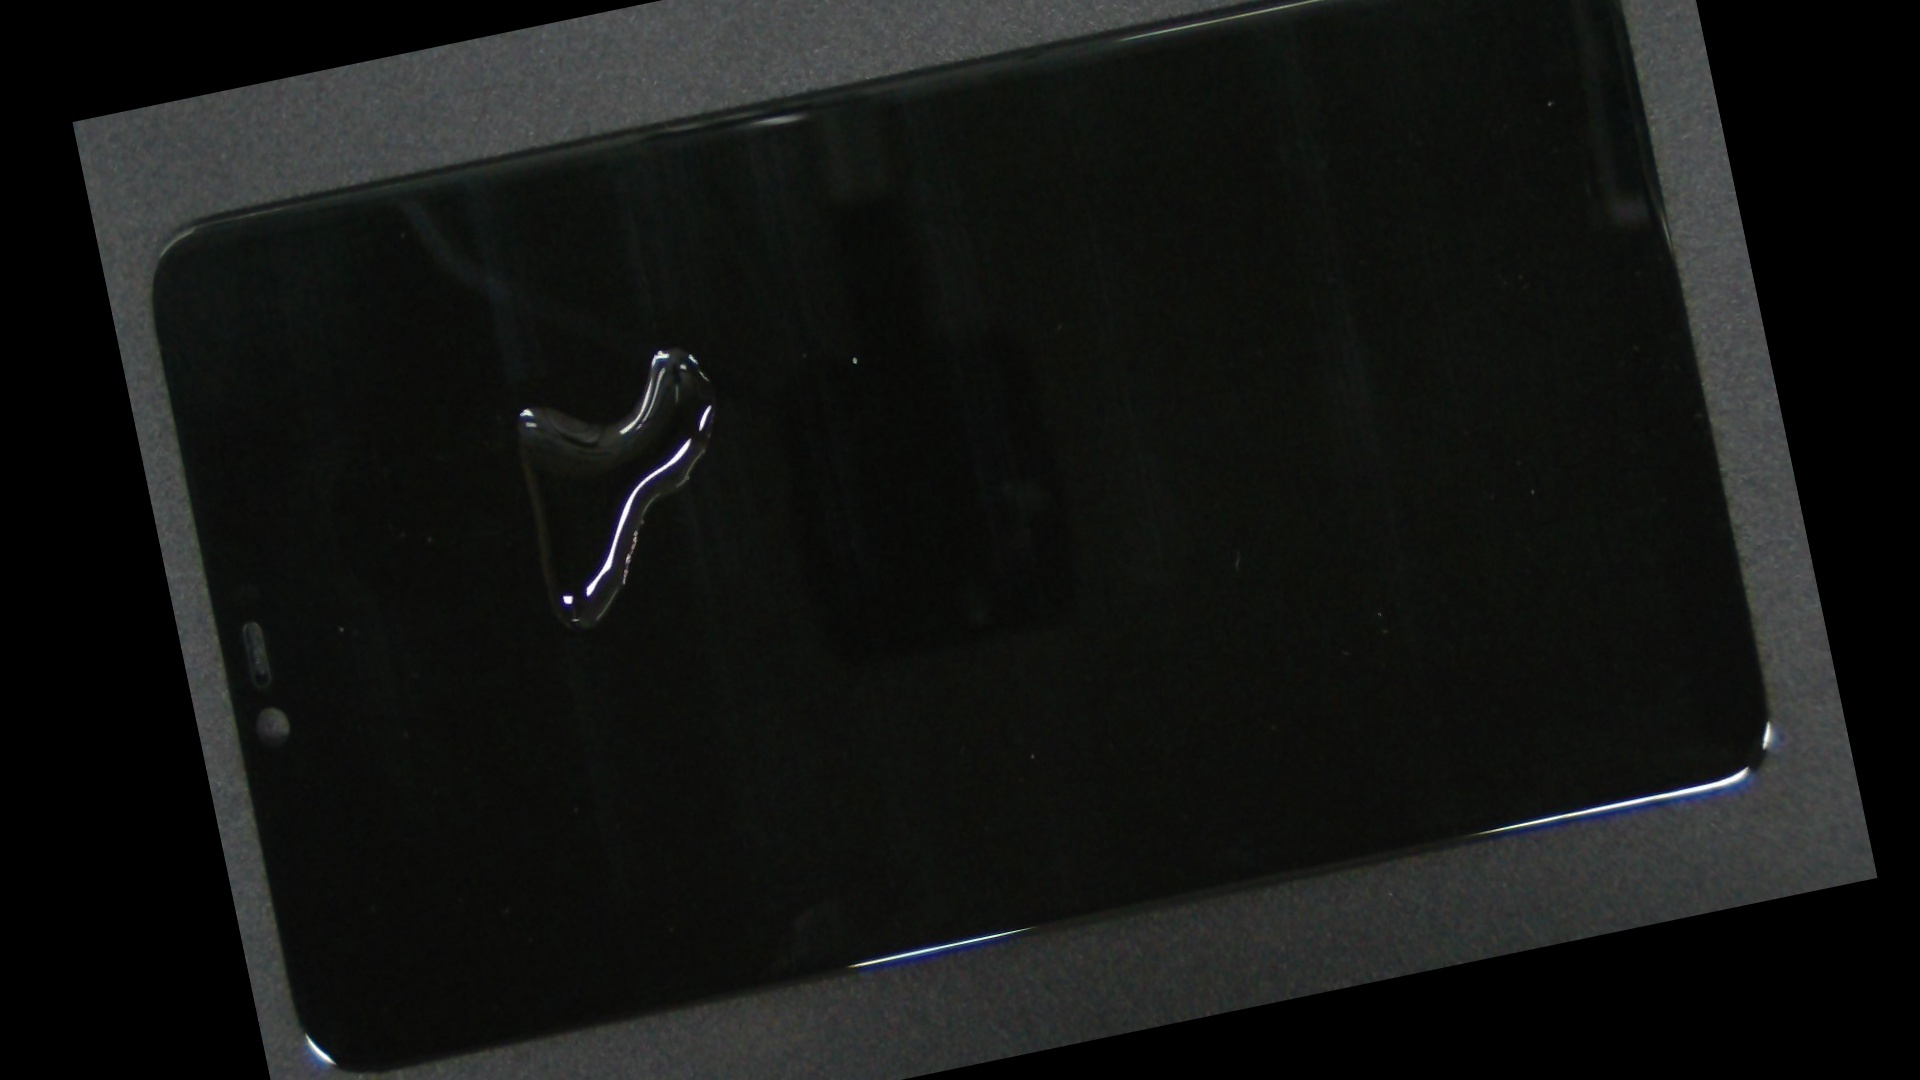oil: (463, 94, 1244, 620), (367, 129, 952, 572)
